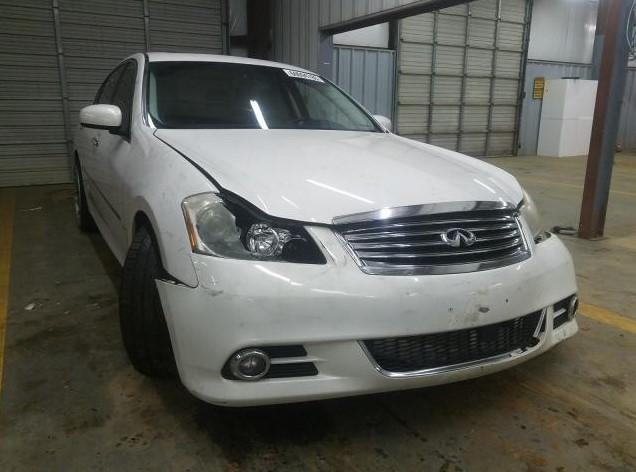Back-door: (79, 57, 132, 202)
Back-wheel: (75, 151, 97, 232)
Back-window: (95, 64, 129, 105)
Fender: (122, 125, 219, 287)
Front-bumper: (157, 211, 579, 405)
Front-door: (88, 55, 143, 268)
Front-wheel: (119, 224, 178, 377)
Front-window: (110, 60, 137, 128)
Grille: (333, 201, 528, 276)
Headlight: (183, 194, 324, 264), (520, 193, 545, 242)
Hood: (154, 129, 524, 227)
Mirror: (79, 104, 129, 139), (374, 116, 392, 131)
Roof: (144, 53, 319, 75)
Windshield: (142, 61, 381, 132)
